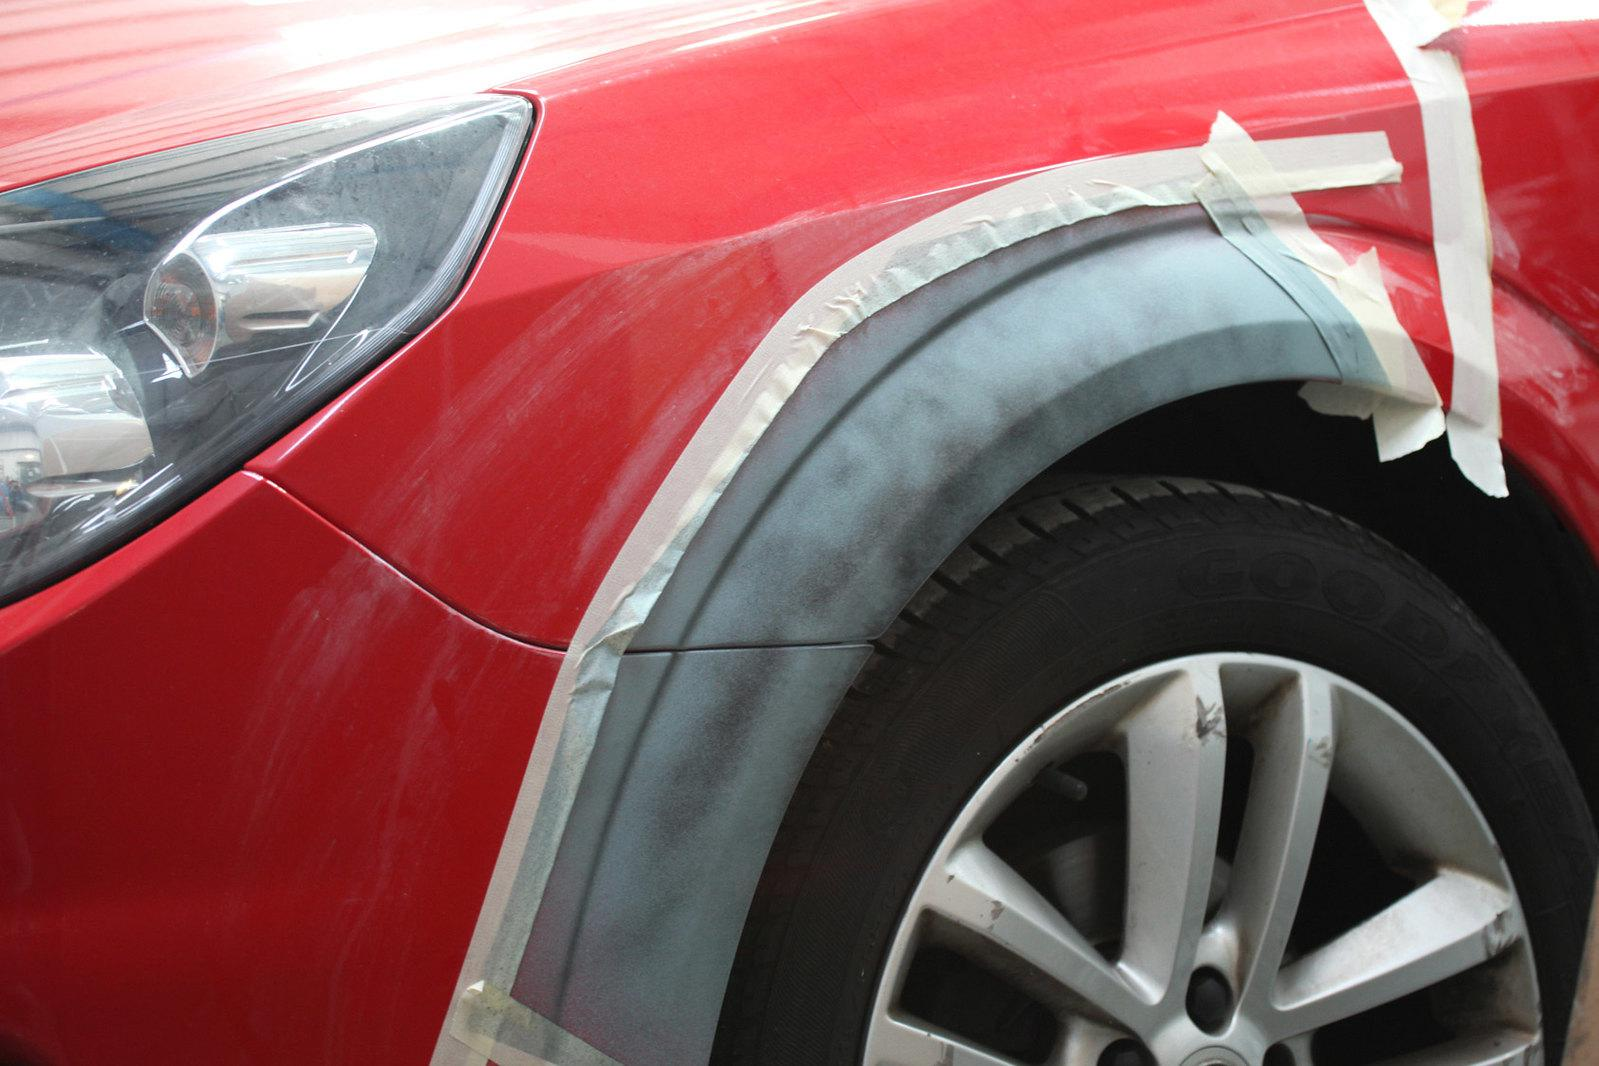rear-bumper-dent: (178, 70, 1453, 686)
